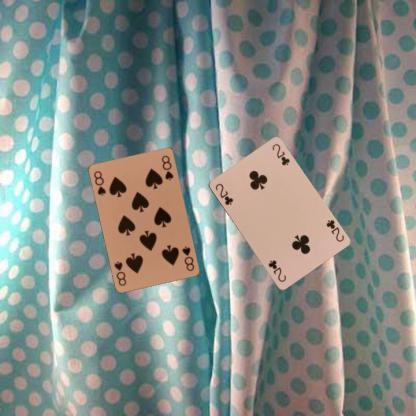2c: (323, 217, 345, 243), (213, 181, 234, 206)
8s: (92, 168, 108, 197), (180, 244, 196, 272)
